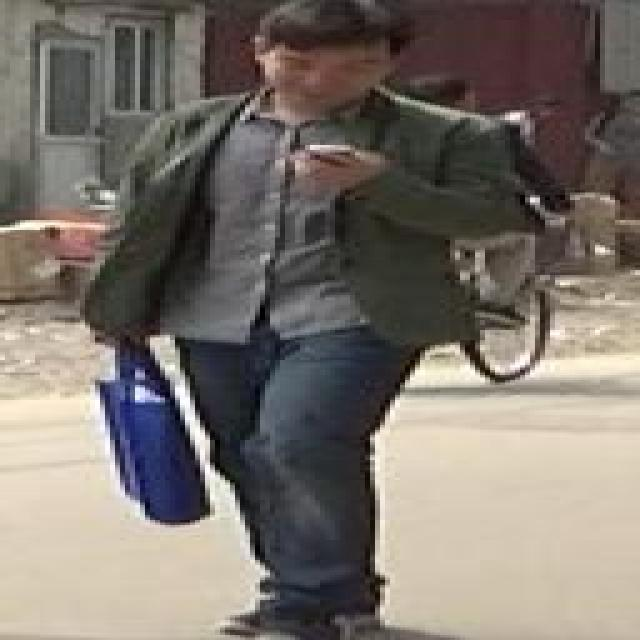adult: (70, 0, 540, 635)
